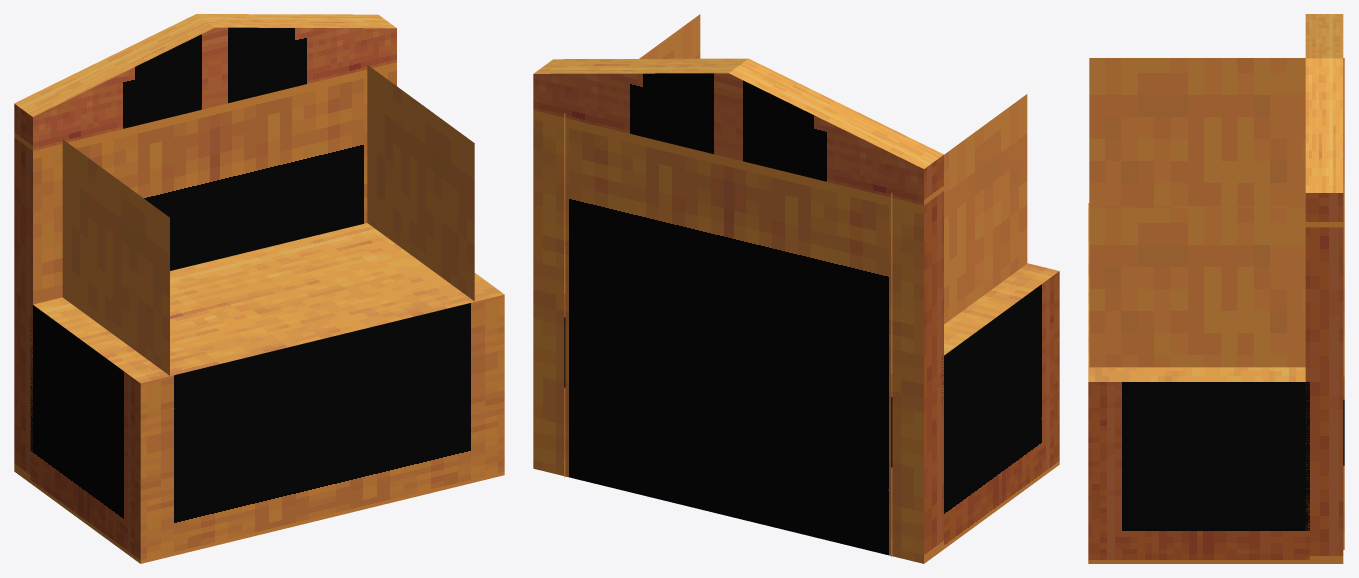
3 renders of one model, left to right at view 1: azimuth 30°, elevation 25°; view 2: azimuth 150°, elevation 25°; view 3: azimuth 270°, elevation 25°, orthographic. The views are drawn at different scales.
Visible parts, largest first — view 1: 3745kg_ga_04; view 2: 3745kg_ga_04; view 3: 3745kg_ga_04.
Part boxes in pixels (left/top/right/bottom): 3745kg_ga_04: left=14, top=14, right=504, bottom=563; 3745kg_ga_04: left=533, top=14, right=1059, bottom=563; 3745kg_ga_04: left=1088, top=14, right=1344, bottom=563.
Size of the model in its own units: 1.58 by 1.72 by 0.957.
Materials: 4 (4 with a texture image).
